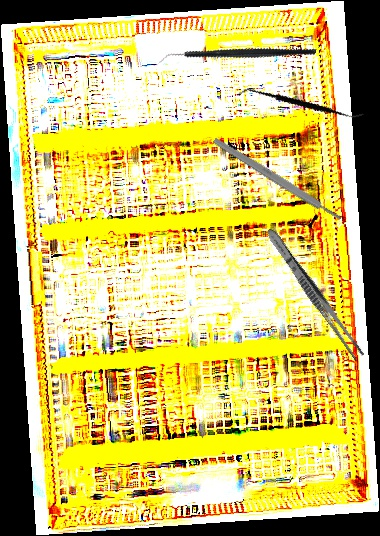Chopper: (158, 2, 317, 111)
Dressing Forceps: (262, 225, 367, 362)
Scalpel Handle: (211, 136, 344, 223)
Spatula Surgical: (236, 55, 365, 154)
